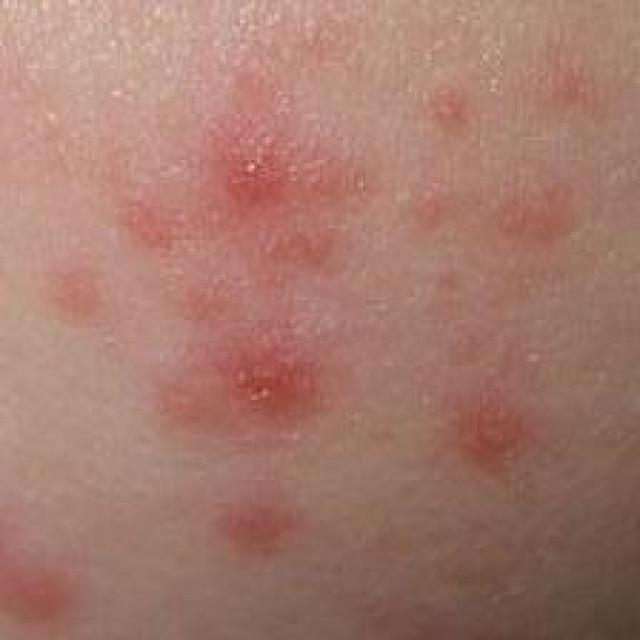others: (36, 5, 565, 639)
